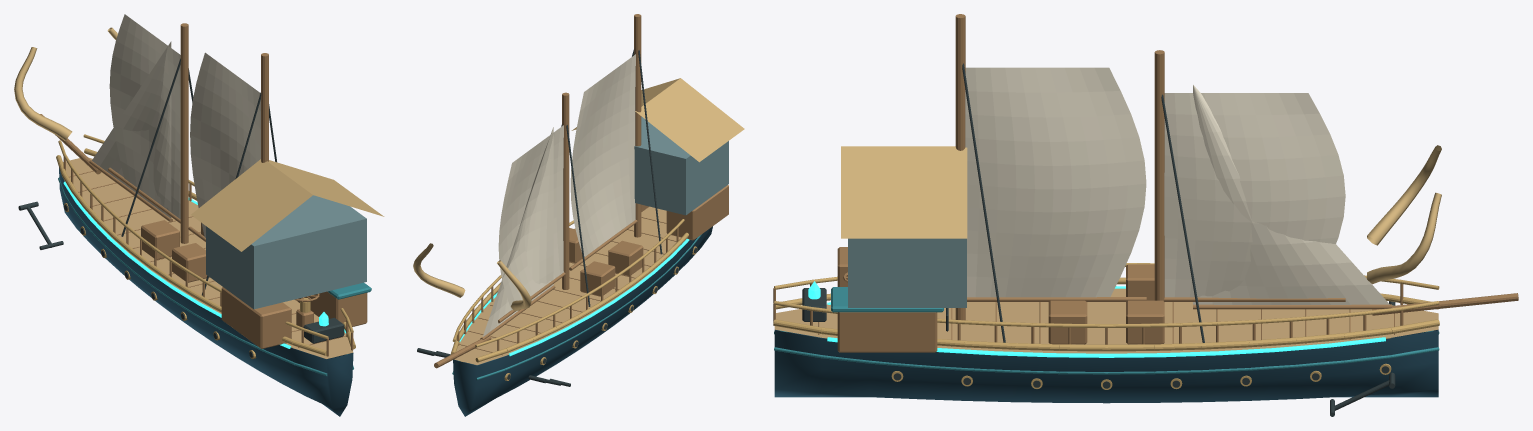
Rendered from ship_schooner.glb.
3 renders of one model, left to right at view 1: azimuth 30°, elevation 25°; view 2: azimuth 150°, elevation 25°; view 3: azimuth 270°, elevation 25°, orthographic. The views are drawn at different scales.
Visible parts, largest first — view 1: ship_schooner; view 2: ship_schooner; view 3: ship_schooner.
Part boxes in pixels (<box>): ship_schooner: <box>14,14,384,416</box>; ship_schooner: <box>413,14,744,416</box>; ship_schooner: <box>773,14,1518,416</box>.
Bounding box in the file's own units: 3.86 × 7.6 × 13.47.
